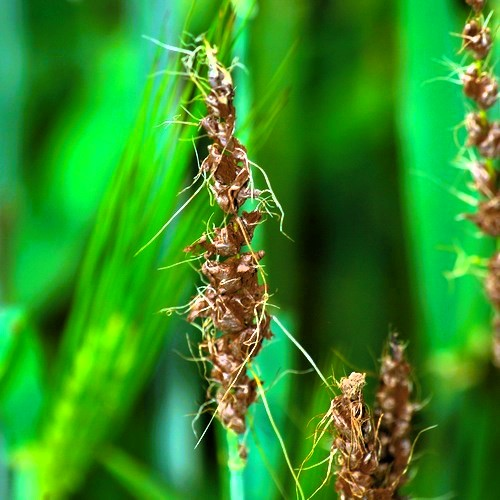Wheat Loose Smut: (178, 87, 284, 414)
